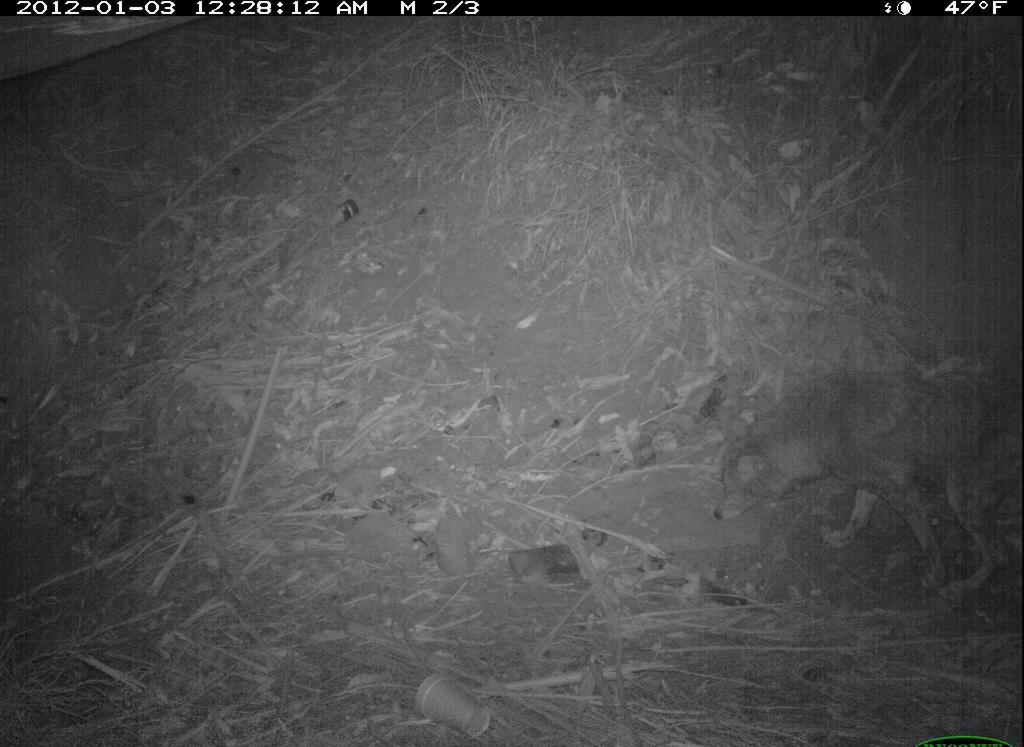coyote: (717, 367, 1023, 610)
